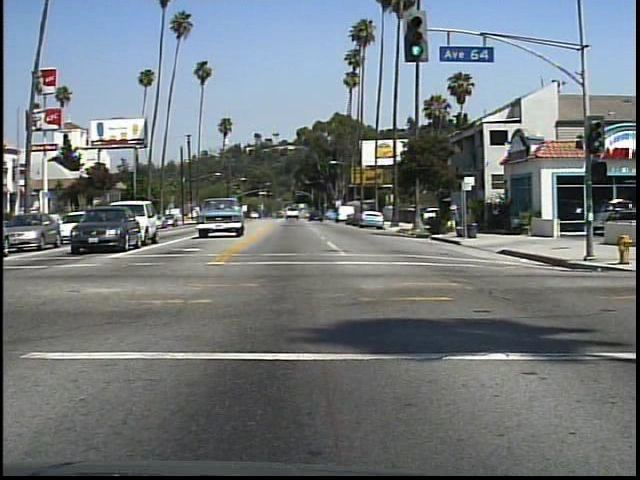person: (444, 198, 462, 235)
